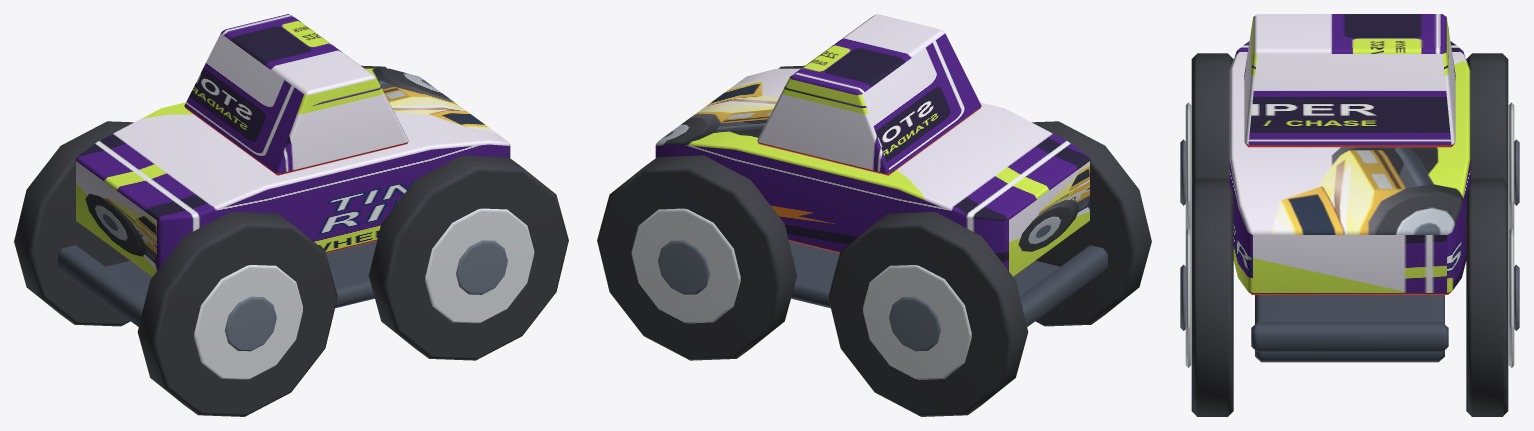
3 renders of one model, left to right at view 1: azimuth 30°, elevation 25°; view 2: azimuth 150°, elevation 25°; view 3: azimuth 270°, elevation 25°, orthographic. The views are drawn at different scales.
Parts seen in each view (by area): view 1: BW-03_connected_shell, BW-03_cabin, Tire.002, Tire, Tire.001, Rim.002, Rim, underbody, front bumper, Hub.002, Hub; view 2: BW-03_connected_shell, BW-03_cabin, Tire.003, Tire.001, Tire, Rim.003, Rim.001, underbody, front bumper, Hub.003, Hub.001; view 3: BW-03_connected_shell, BW-03_cabin, Tire.002, Tire.003, underbody, rear bumper, Tire, Tire.001, Rim.002, Rim.003, Rim, Rim.001 (+4 smaller).
Boxes of the visible parts, bbox=[...] form: BW-03_connected_shell: bbox=[76, 68, 510, 276]; BW-03_cabin: bbox=[184, 14, 408, 175]; Tire.002: bbox=[368, 155, 568, 360]; Tire: bbox=[137, 211, 337, 416]; Tire.001: bbox=[14, 121, 133, 326]; Rim.002: bbox=[425, 208, 534, 323]; Rim: bbox=[194, 265, 302, 379]; underbody: bbox=[105, 241, 376, 308]; front bumper: bbox=[58, 245, 145, 326]; Hub.002: bbox=[456, 240, 507, 294]; Hub: bbox=[224, 296, 276, 351]; BW-03_connected_shell: bbox=[655, 68, 1089, 276]; BW-03_cabin: bbox=[757, 14, 981, 175]; Tire.003: bbox=[597, 155, 797, 360]; Tire.001: bbox=[828, 211, 1028, 416]; Tire: bbox=[1032, 121, 1151, 326]; Rim.003: bbox=[631, 208, 740, 323]; Rim.001: bbox=[863, 265, 971, 379]; underbody: bbox=[789, 241, 1060, 308]; front bumper: bbox=[1020, 245, 1107, 326]; Hub.003: bbox=[658, 240, 709, 294]; Hub.001: bbox=[889, 296, 941, 351]; BW-03_connected_shell: bbox=[1229, 41, 1470, 294]; BW-03_cabin: bbox=[1244, 14, 1455, 147]; Tire.002: bbox=[1191, 178, 1233, 416]; Tire.003: bbox=[1466, 178, 1508, 416]; underbody: bbox=[1255, 295, 1444, 362]; rear bumper: bbox=[1251, 322, 1448, 352]; Tire: bbox=[1191, 53, 1233, 183]; Tire.001: bbox=[1466, 53, 1508, 183]; Rim.002: bbox=[1185, 228, 1191, 367]; Rim.003: bbox=[1508, 228, 1514, 367]; Rim: bbox=[1185, 102, 1191, 229]; Rim.001: bbox=[1508, 102, 1514, 229].
Size of the model in its own units: 331 by 216 by 210.
